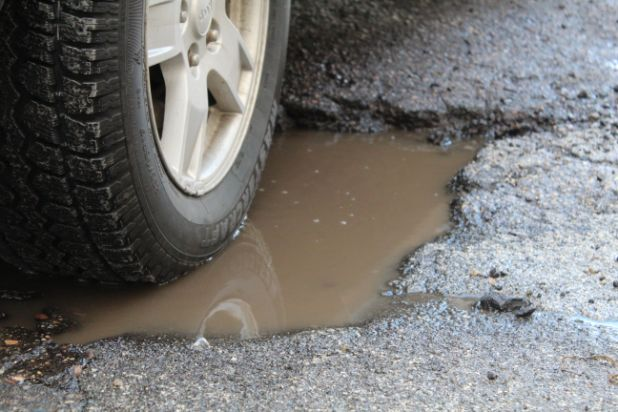pothole: (55, 100, 548, 359)
